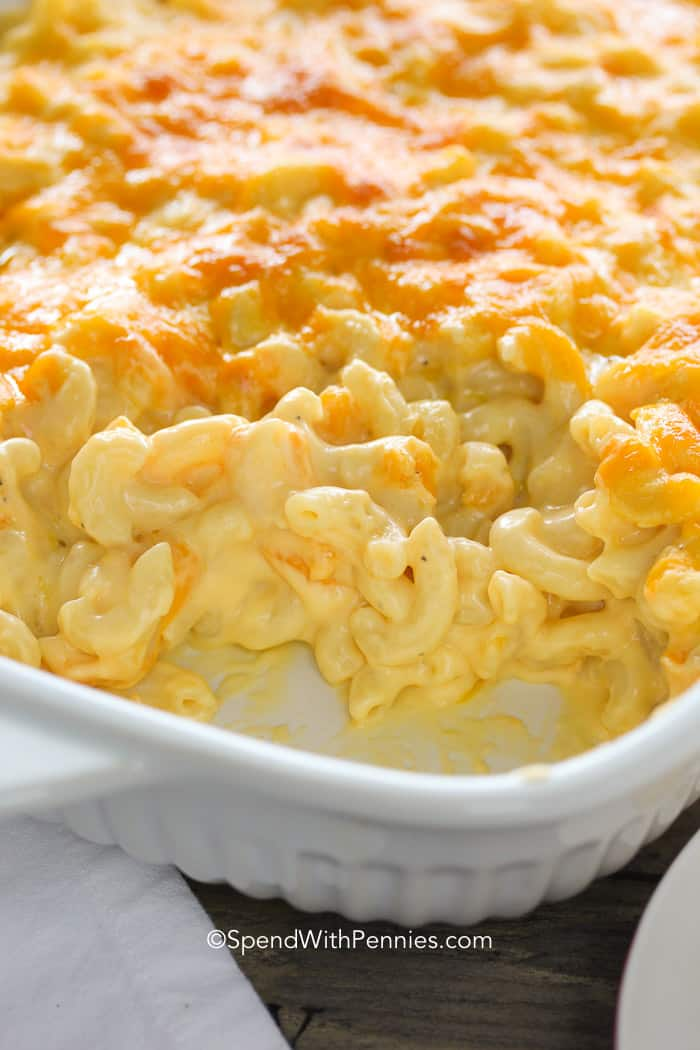macncheese: (18, 174, 700, 893)
